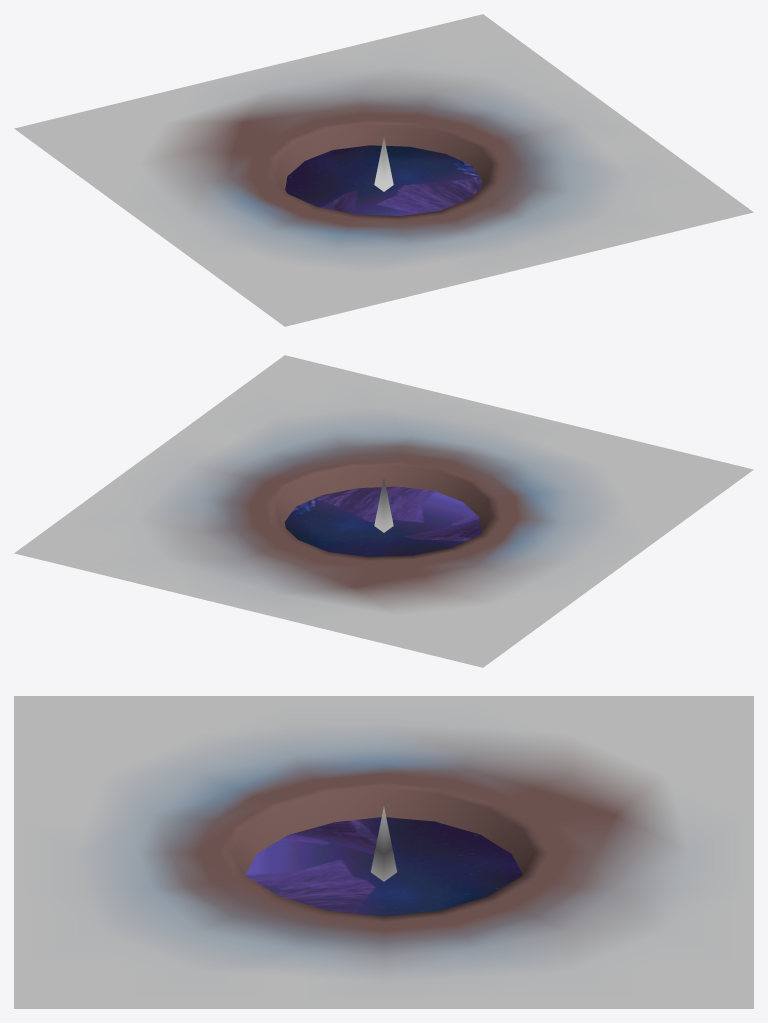
Rendered from mapool01.fbx.
3 views of the same model, one above another, from view 1: azimuth 30°, elevation 25°; view 2: azimuth 150°, elevation 25°; view 3: azimuth 270°, elevation 25° (orthographic). The views are drawn at different scales.
Visible parts, largest first — view 1: grid1, chrome, hp_emit_1; view 2: grid1, chrome, hp_emit_1; view 3: grid1, chrome, hp_emit_1.
Boxes of the visible parts, x1,y1,x2,y2 form: grid1: (14,14,753,326); chrome: (285,145,482,215); hp_emit_1: (374,137,393,191); grid1: (14,355,753,667); chrome: (284,486,481,556); hp_emit_1: (374,478,393,532); grid1: (14,696,753,1008); chrome: (245,817,522,916); hp_emit_1: (371,807,396,881).
Size of the model in its own units: 32 by 6.43 by 32.
